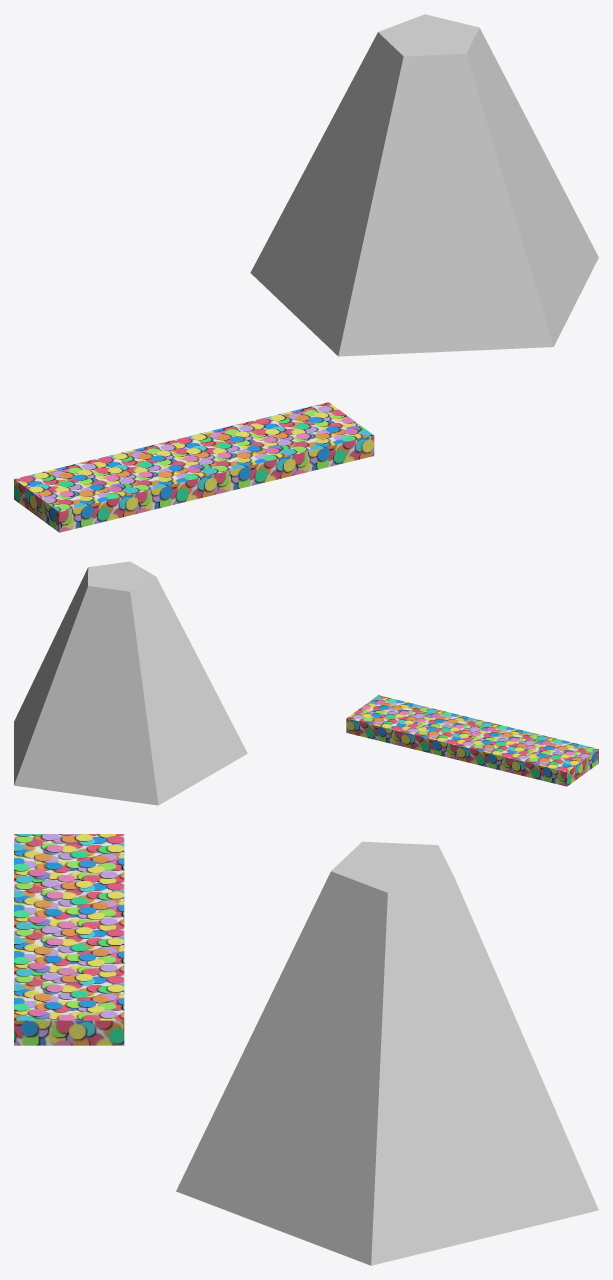
The model's file is funskittles.glb.
The picture shows the model from 3 angles, top to bottom: view 1: azimuth 30°, elevation 25°; view 2: azimuth 150°, elevation 25°; view 3: azimuth 270°, elevation 25°; orthographic projection. The views are drawn at different scales.
Parts seen in each view (by area): view 1: [0]; view 2: [0]; view 3: [0].
Boxes of the visible parts, box(x1,y1,x2,y2) form: [0]: box(14, 14, 598, 532); [0]: box(14, 561, 598, 805); [0]: box(14, 834, 598, 1265).
Bounding box in the file's own units: 8.73 × 3.06 × 5.3.
Materials: 1 (1 with a texture image).
